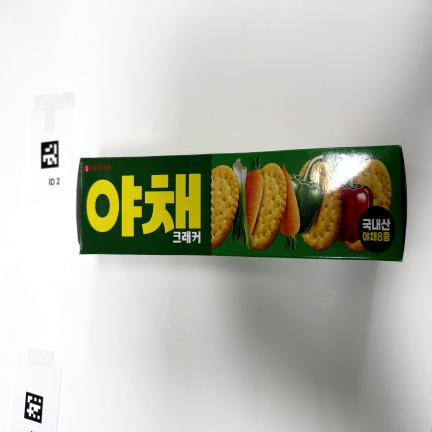cracker_vege: (76, 146, 407, 261)
